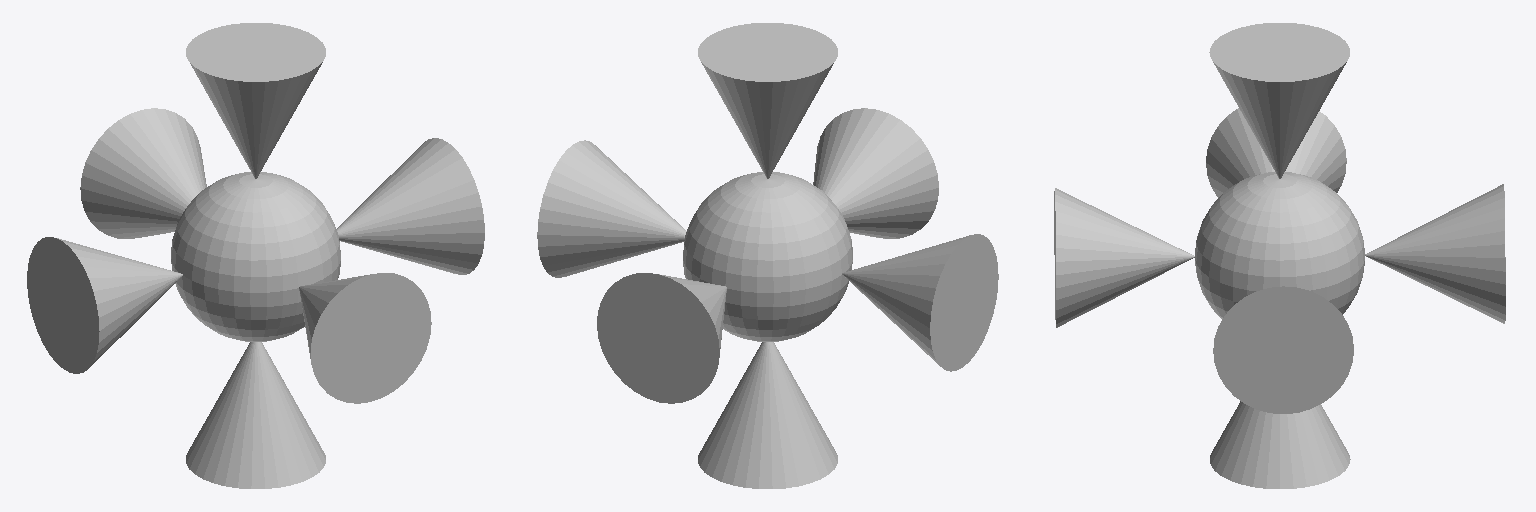
The model's file is cursor.obj.
3 views of the same model, side by side, from view 1: azimuth 30°, elevation 25°; view 2: azimuth 150°, elevation 25°; view 3: azimuth 270°, elevation 25° (orthographic).
Visible parts, largest first — view 1: Sphere, Cone.003_Cone.004, Cone.005_Cone.006, Cone.004_Cone.005, Cone.002_Cone.003, Cone.001_Cone.002, Cone; view 2: Sphere, Cone.002_Cone.003, Cone.005_Cone.006, Cone.004_Cone.005, Cone.001_Cone.002, Cone.003_Cone.004, Cone; view 3: Sphere, Cone.004_Cone.005, Cone.001_Cone.002, Cone.003_Cone.004, Cone.002_Cone.003, Cone, Cone.005_Cone.006.
Boxes of the visible parts, <box> form: Sphere: <box>171,172,340,341</box>; Cone.003_Cone.004: <box>299,273,431,403</box>; Cone.005_Cone.006: <box>27,237,182,373</box>; Cone.004_Cone.005: <box>336,138,484,274</box>; Cone.002_Cone.003: <box>80,108,206,238</box>; Cone.001_Cone.002: <box>186,23,325,178</box>; Cone: <box>186,342,325,488</box>; Sphere: <box>683,172,852,341</box>; Cone.002_Cone.003: <box>597,273,726,403</box>; Cone.005_Cone.006: <box>842,234,998,371</box>; Cone.004_Cone.005: <box>537,140,686,277</box>; Cone.001_Cone.002: <box>698,23,837,178</box>; Cone.003_Cone.004: <box>813,108,938,238</box>; Cone: <box>698,342,837,488</box>; Sphere: <box>1195,172,1364,318</box>; Cone.004_Cone.005: <box>1213,286,1353,413</box>; Cone.001_Cone.002: <box>1209,23,1349,178</box>; Cone.003_Cone.004: <box>1054,188,1194,327</box>; Cone.002_Cone.003: <box>1365,184,1505,323</box>; Cone: <box>1210,401,1350,488</box>; Cone.005_Cone.006: <box>1206,108,1346,197</box>.
Size of the model in its own units: 5.29 by 5.26 by 5.28.